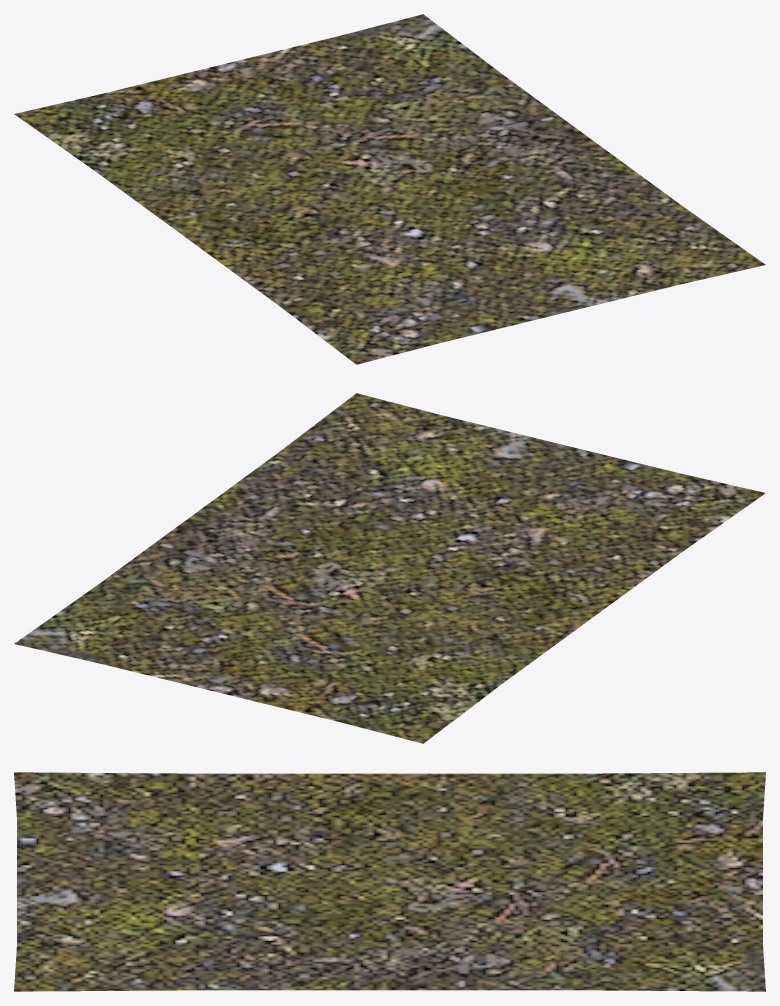
Rendered from Emb_PlanterBalc_3X4_Dirt.FBX.
3 views of the same model, one above another, from view 1: azimuth 30°, elevation 25°; view 2: azimuth 150°, elevation 25°; view 3: azimuth 270°, elevation 25° (orthographic). The views are drawn at different scales.
Visible parts, largest first — view 1: Emb_PlanterBalc_3X4_Dirt; view 2: Emb_PlanterBalc_3X4_Dirt; view 3: Emb_PlanterBalc_3X4_Dirt.
Part boxes in pixels (bbox=[...]): Emb_PlanterBalc_3X4_Dirt: bbox=[14, 14, 765, 364]; Emb_PlanterBalc_3X4_Dirt: bbox=[14, 393, 765, 743]; Emb_PlanterBalc_3X4_Dirt: bbox=[14, 772, 765, 991].
Size of the model in its own units: 2.22 by 8.88e-16 by 3.22.
